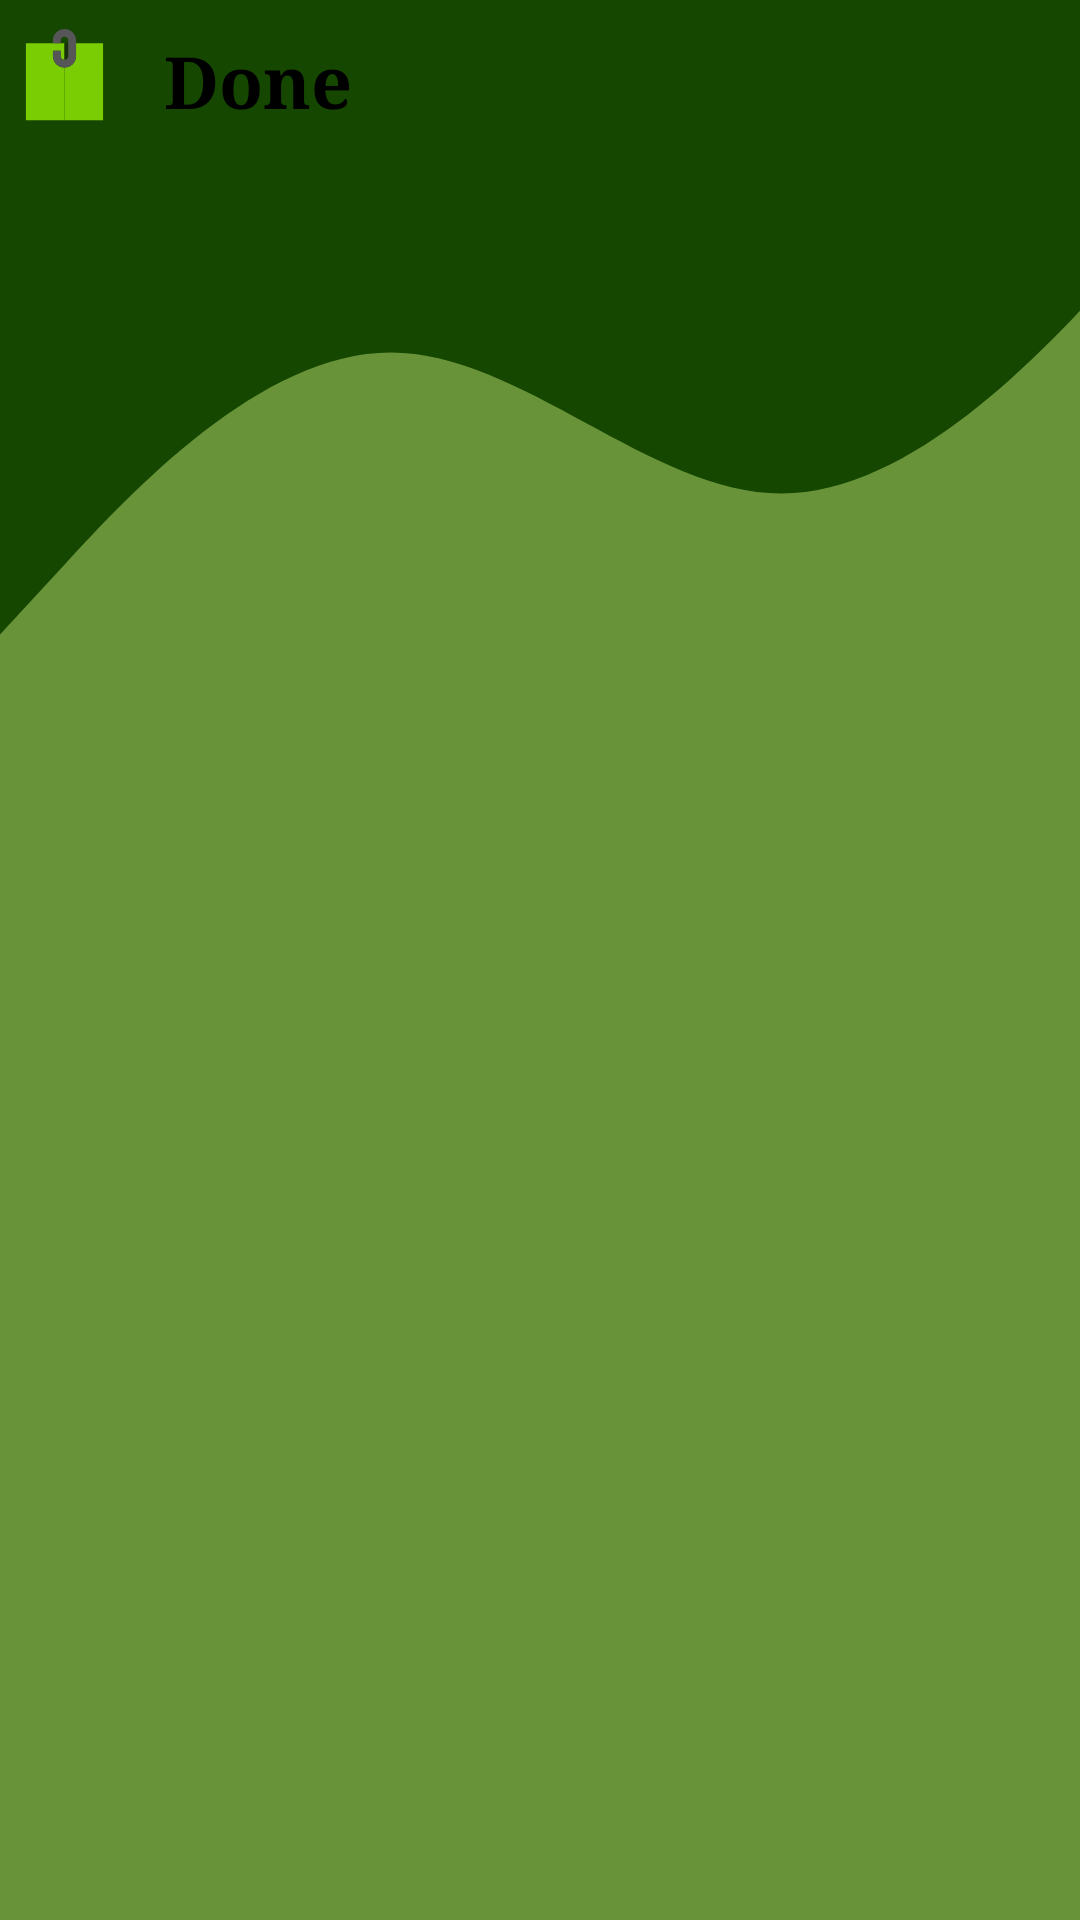

Icon bounding boxes for this 1080 × 1920 phone screenshot, format (x1, y1, x2, y2):
notes: (26, 29, 103, 121)
